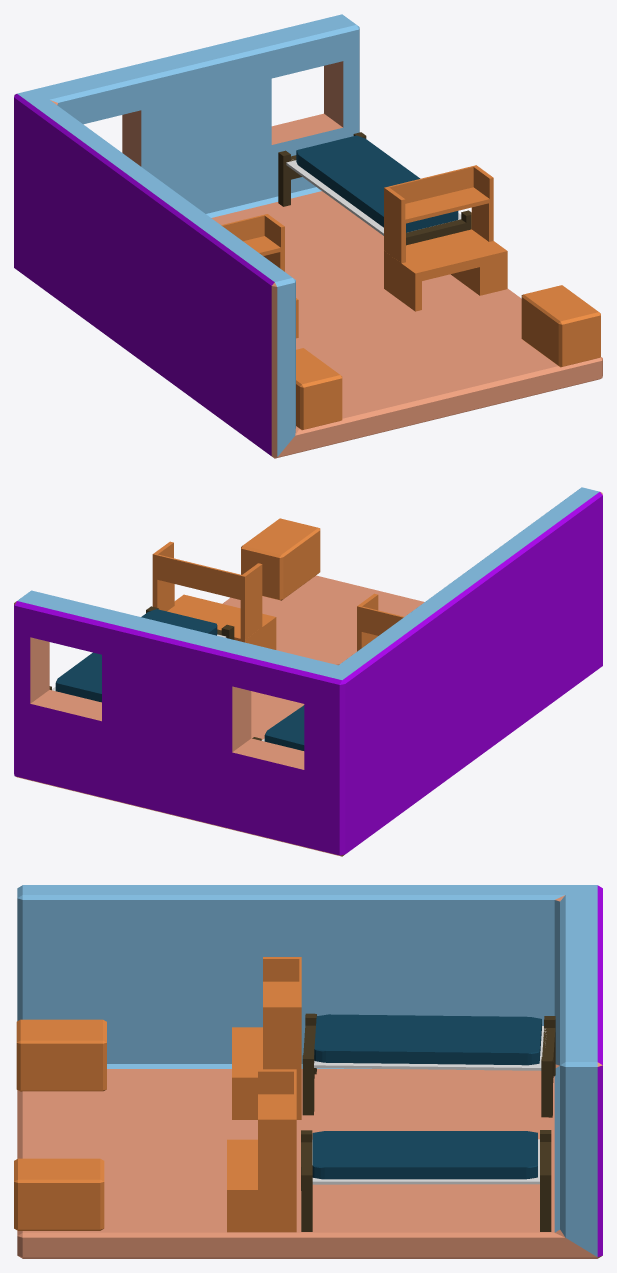
File: FullDouble.glb
The picture shows the model from 3 angles, top to bottom: view 1: azimuth 30°, elevation 25°; view 2: azimuth 150°, elevation 25°; view 3: azimuth 270°, elevation 25°; orthographic projection. The views are drawn at different scales.
Visible parts, largest first — view 1: Plane, Table.001, Mattress.001, Drawer.001, Drawer, Table, Bed Frame.004, Metal Frame.001, Bed Frame.005; view 2: Plane, Table.001, Drawer.001, Mattress.001, Table, Mattress; view 3: Plane, Mattress, Mattress.001, Table.001, Table, Drawer, Drawer.001, Metal Frame, Metal Frame.001, Bed Frame.003, Bed Frame.001, Bed Frame.004 (+1 smaller).
Part boxes in pixels (x1=…): Plane: x1=14, y1=14, x2=602, y2=458; Table.001: x1=384, y1=165, x2=507, y2=311; Mattress.001: x1=296, y1=135, x2=458, y2=232; Drawer.001: x1=521, y1=285, x2=600, y2=367; Drawer: x1=296, y1=348, x2=342, y2=430; Table: x1=221, y1=214, x2=298, y2=338; Bed Frame.004: x1=406, y1=210, x2=471, y2=245; Metal Frame.001: x1=286, y1=159, x2=461, y2=235; Bed Frame.005: x1=278, y1=132, x2=366, y2=206; Plane: x1=14, y1=487, x2=602, y2=856; Table.001: x1=152, y1=541, x2=276, y2=649; Drawer.001: x1=241, y1=518, x2=320, y2=600; Mattress.001: x1=55, y1=609, x2=217, y2=702; Table: x1=357, y1=593, x2=403, y2=651; Mattress: x1=264, y1=705, x2=304, y2=750; Plane: x1=17, y1=885, x2=602, y2=1258; Mattress: x1=314, y1=1014, x2=541, y2=1065; Mattress.001: x1=312, y1=1131, x2=537, y2=1179; Table.001: x1=227, y1=1069, x2=296, y2=1232; Table: x1=232, y1=957, x2=301, y2=1119; Drawer: x1=16, y1=1019, x2=106, y2=1091; Drawer.001: x1=14, y1=1158, x2=104, y2=1230; Metal Frame: x1=314, y1=1026, x2=546, y2=1070; Metal Frame.001: x1=312, y1=1139, x2=539, y2=1184; Bed Frame.003: x1=541, y1=1016, x2=555, y2=1117; Bed Frame.001: x1=302, y1=1013, x2=316, y2=1115; Bed Frame.004: x1=301, y1=1130, x2=312, y2=1231.
Bounding box in the file's own units: 7.97 × 4.06 × 11.01.
